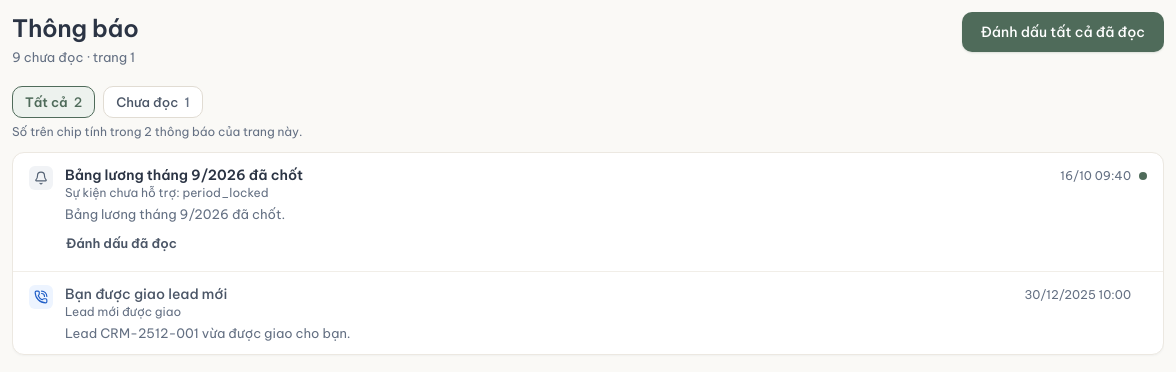
Test case: NotificationListPage (step 14d) › filtered empty: Chưa đọc with nothing unread left on the page stays in the frame
Click the button named "Chưa đọc1": (153, 102) [103, 86, 203, 118]
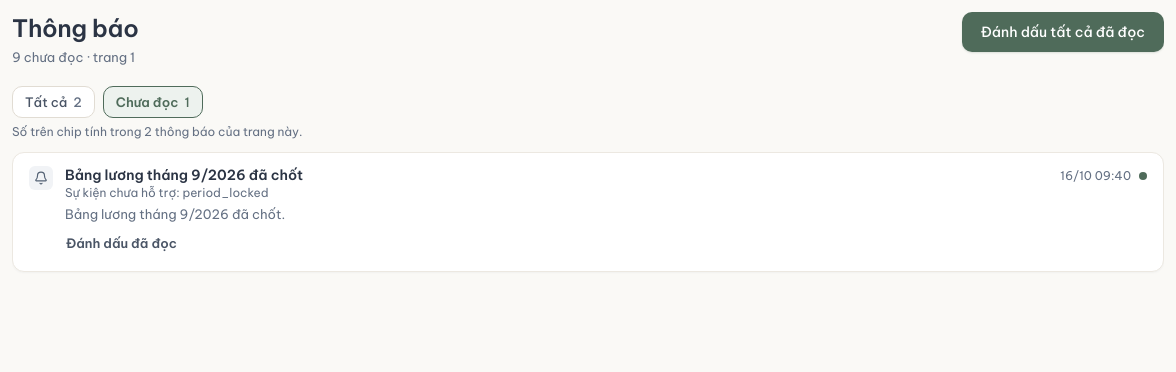
Click the button with aria-label "Đánh dấu đã đọc:": (122, 243) [53, 227, 190, 259]
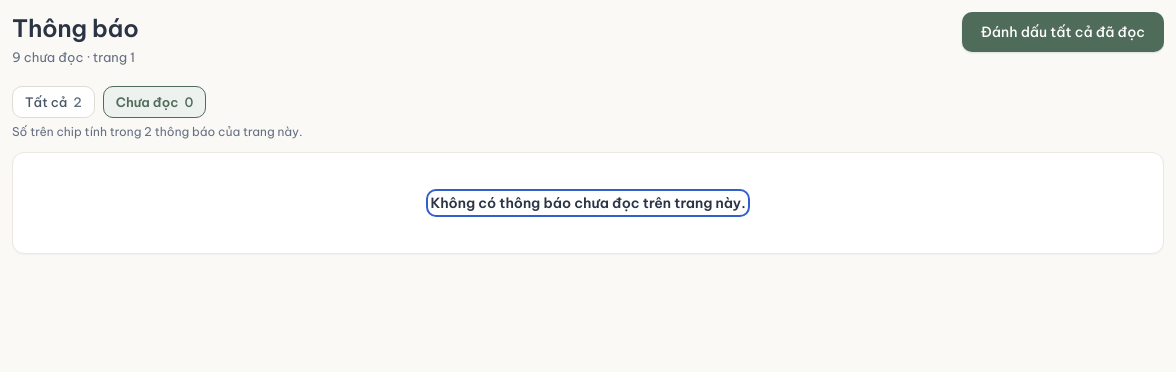
expect the text "Không có thông báo chưa đọc trên trang này." is shown: met, box [430, 193, 746, 213]
